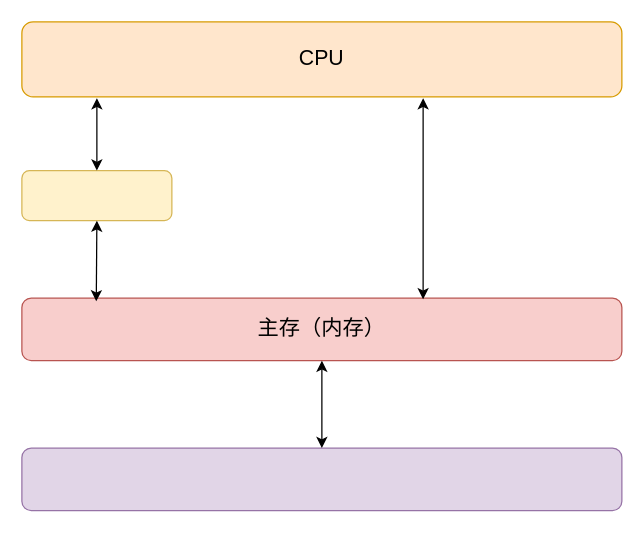
Some shapes in this 644 by 533 pixel diagram are drawn without their labels. Each missing label, with the box of its shape:
Cache: (21, 169, 172, 221)
辅存（外存）: (21, 447, 622, 511)
